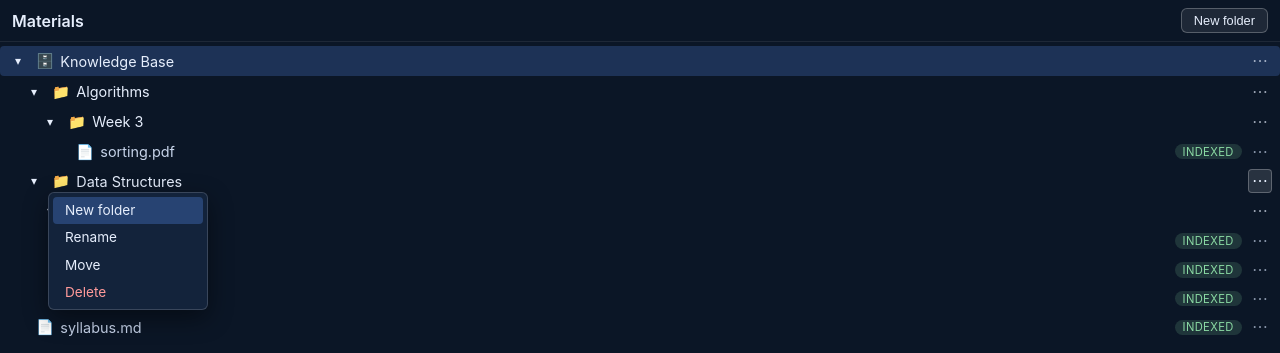
Scenario: MaterialsApp context menu › closes on an outside press and returns focus to the row when nothing else took it
This screenshot has width=1280, height=353.
Expected: the menu is shown, [48,192,208,310]
Click the heading "Materials".
click(48, 20)  # box [12,10,84,30]
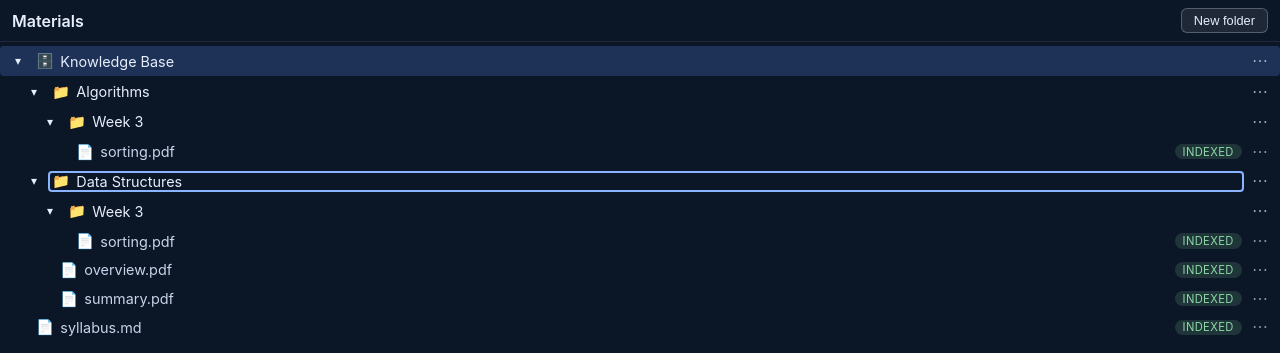
Now the menu is gone
